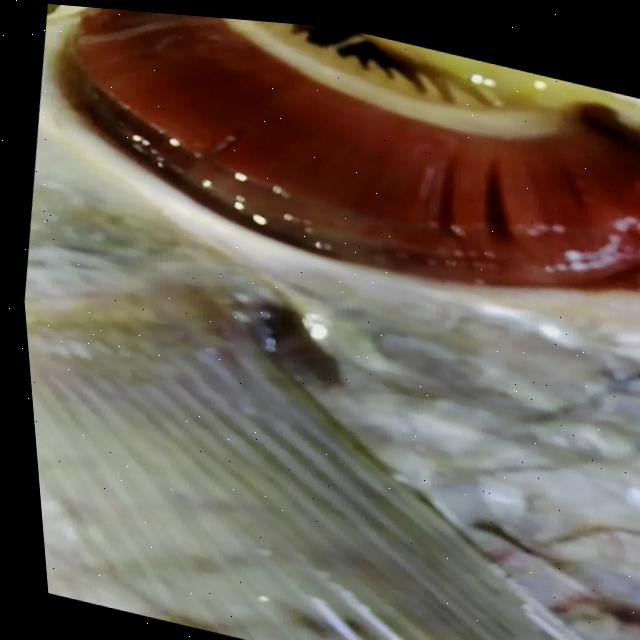Fresh: (23, 1, 640, 344)
